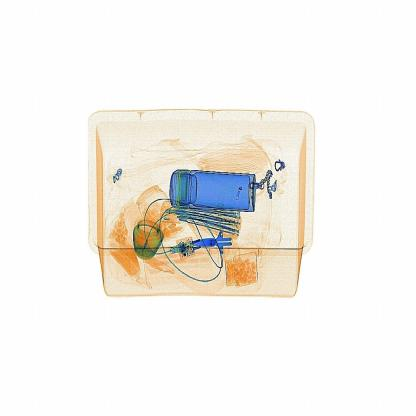gun: (190, 215, 245, 275)
